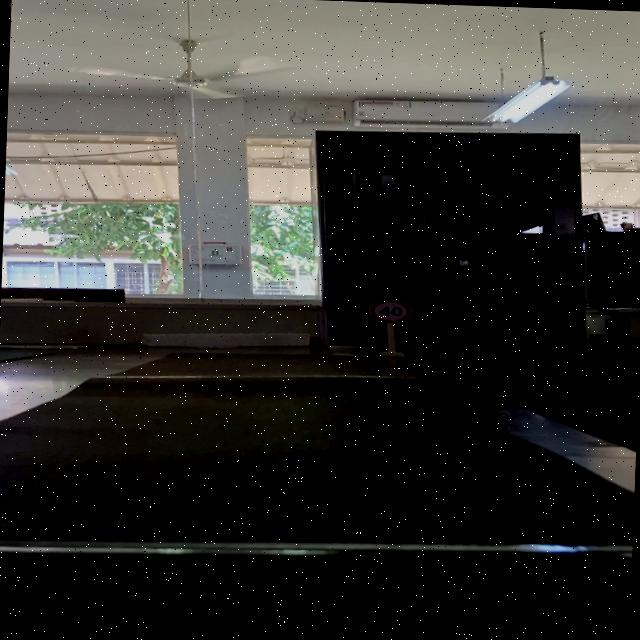Speed40: (366, 296, 413, 325)
